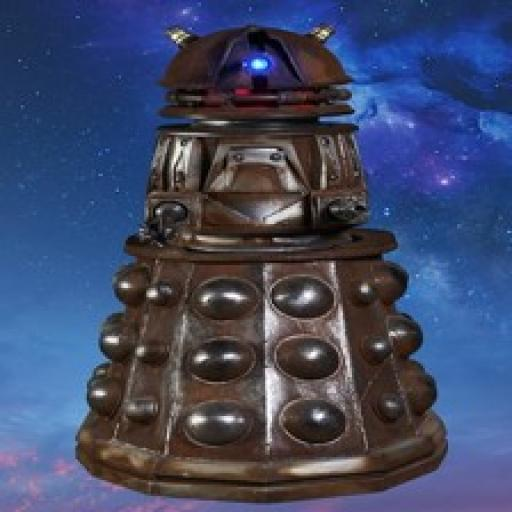dalek: (60, 18, 457, 503)
